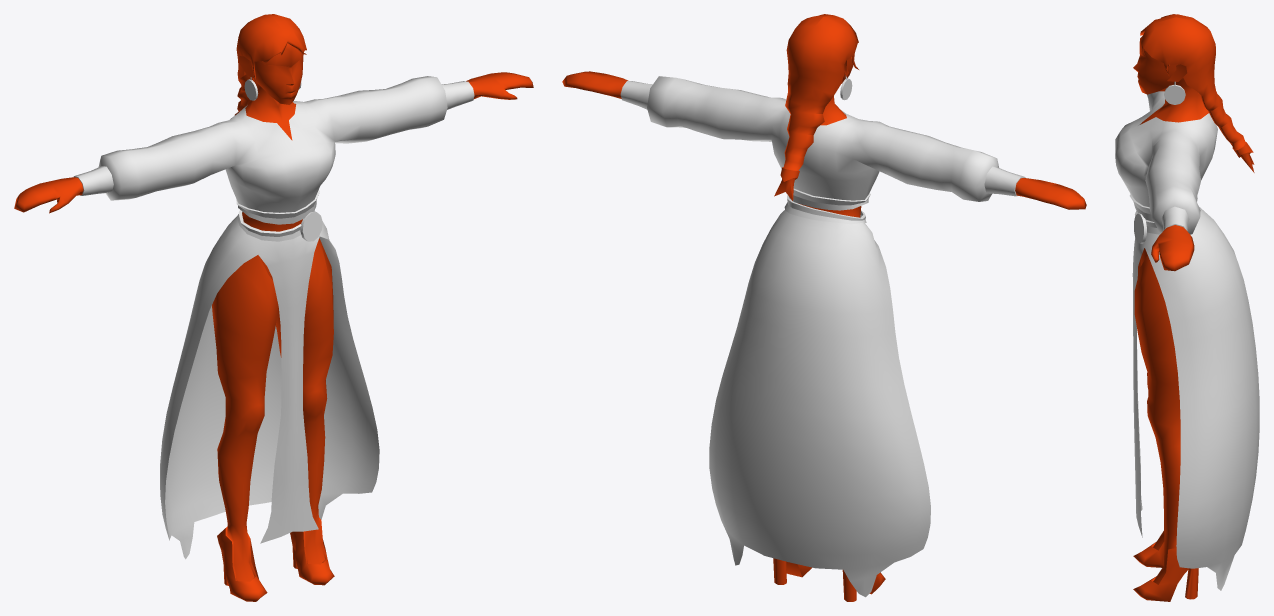
File: Hel.fbx
3 views of the same model, side by side, from view 1: azimuth 30°, elevation 25°; view 2: azimuth 150°, elevation 25°; view 3: azimuth 270°, elevation 25° (orthographic).
Parts seen in each view (by area): view 1: Hel; view 2: Hel; view 3: Hel.
Part boxes in pixels (x1,y1,x2,y2): Hel: [14, 14, 533, 601]; Hel: [562, 14, 1086, 601]; Hel: [1115, 14, 1259, 601].
Size of the model in its own units: 1.69 by 1.75 by 0.4079.
